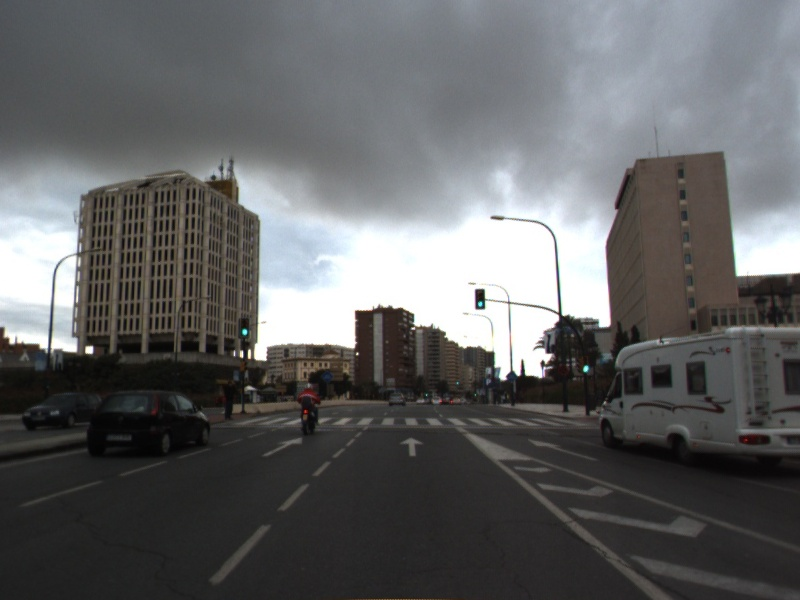STRAIGHT: (526, 436, 602, 463), (260, 435, 305, 458), (397, 435, 427, 458)
